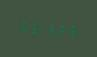five: (48, 19, 57, 37)
nine: (68, 21, 77, 39)
one: (38, 19, 47, 36)
two: (58, 20, 67, 38), (27, 18, 36, 35)
zero: (17, 17, 26, 35)
